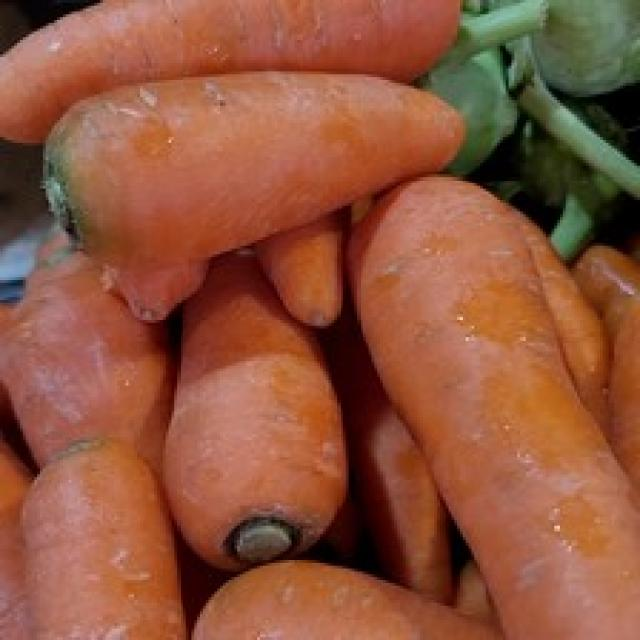Fresh_Carrot: (363, 184, 640, 640), (0, 0, 464, 145), (179, 260, 348, 564), (0, 260, 180, 493), (20, 452, 180, 640), (196, 562, 520, 640)
